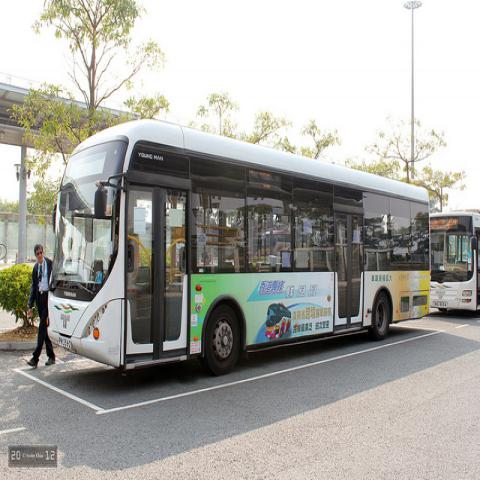bus: (46, 120, 430, 370), (432, 211, 479, 317)
